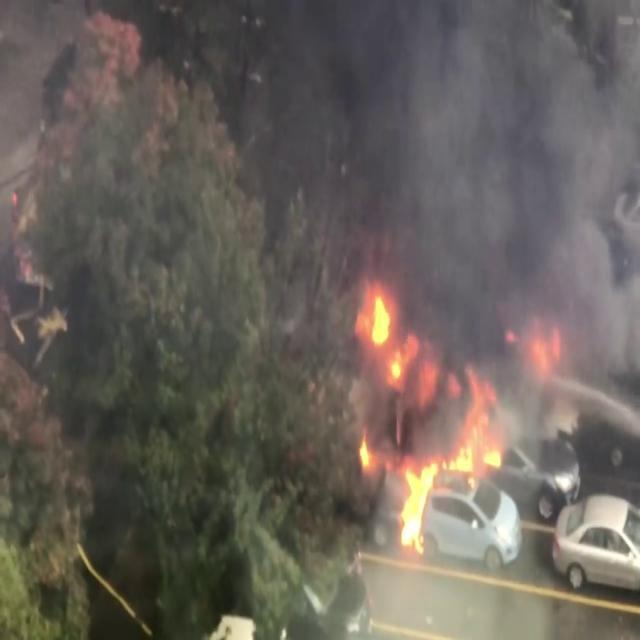Fire: (350, 282, 504, 544)
Smoke: (280, 0, 639, 428)
